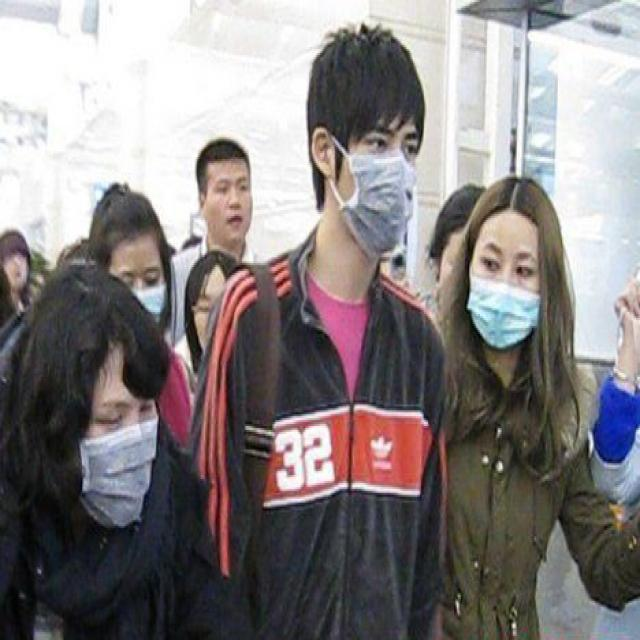mask: (76, 359, 159, 524), (468, 214, 542, 344), (112, 240, 164, 325)
nomask: (342, 98, 421, 245), (207, 161, 252, 239), (3, 248, 30, 286)
